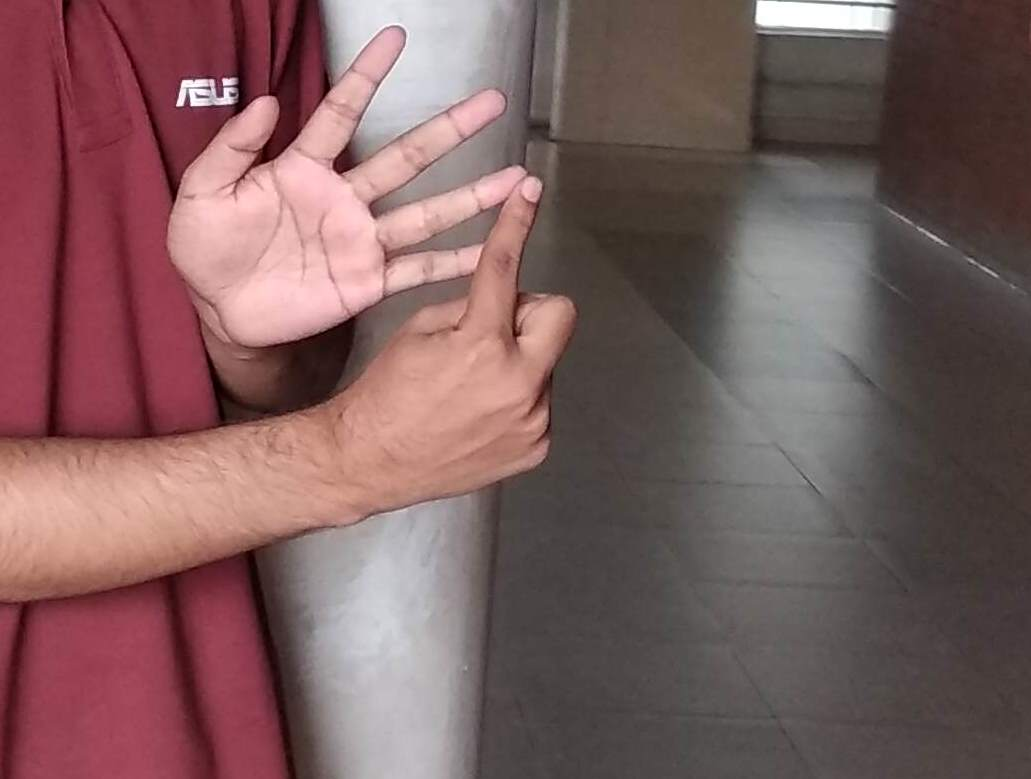e: (202, 31, 564, 366)
